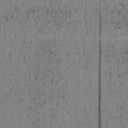surface scratch: (98, 10, 102, 128)
